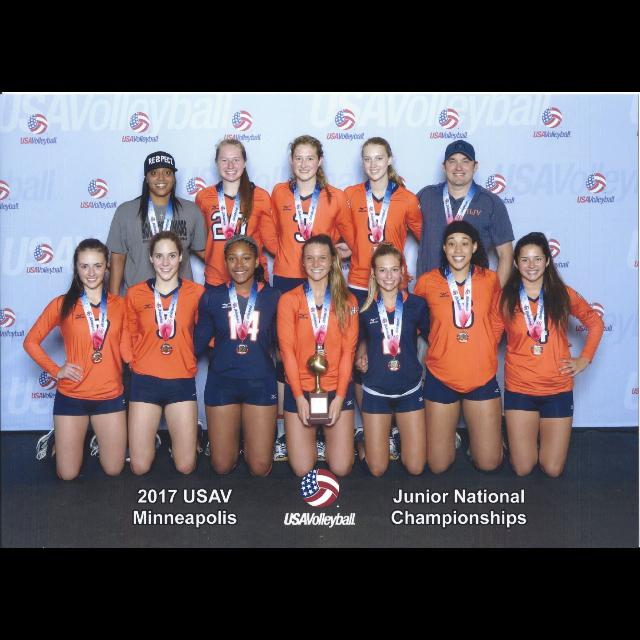head: (74, 238, 110, 290), (513, 234, 551, 282), (148, 232, 184, 282), (442, 221, 478, 271), (223, 236, 260, 284), (370, 245, 406, 292), (441, 146, 481, 188), (290, 136, 324, 182), (302, 236, 336, 282), (215, 140, 248, 182), (362, 137, 393, 181), (146, 156, 177, 198)
person: (223, 134, 419, 438), (294, 134, 486, 440), (355, 218, 577, 478), (328, 138, 516, 442), (160, 233, 324, 481), (105, 149, 247, 433), (453, 230, 607, 478), (191, 138, 313, 436), (124, 230, 260, 478), (22, 238, 136, 484), (357, 241, 471, 479), (274, 235, 362, 480)
